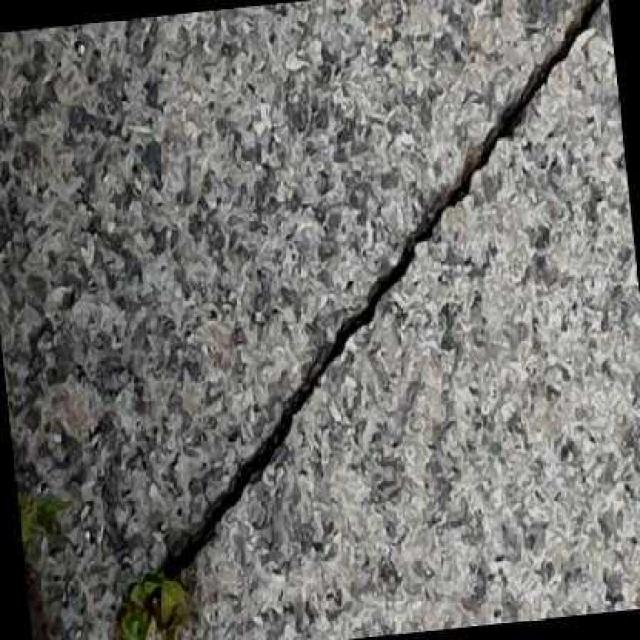D00: (162, 0, 606, 583)
